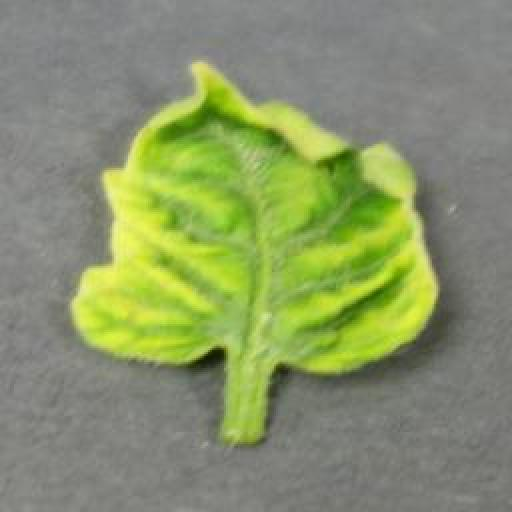disease_tomato: (74, 60, 442, 373)
